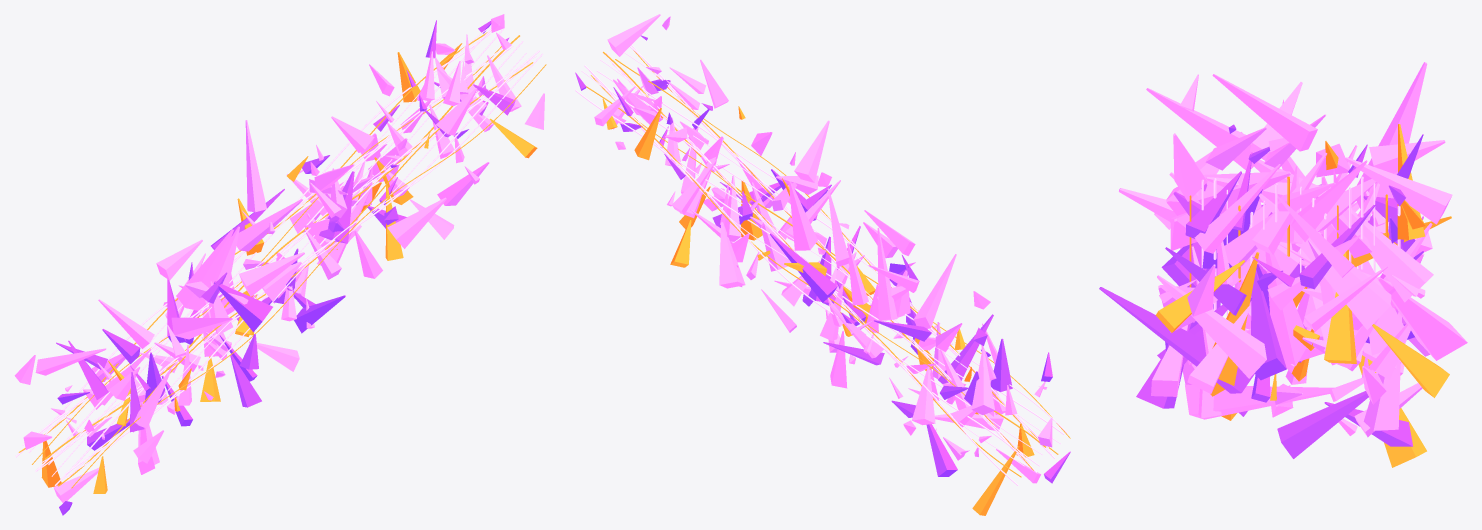
The model's file is shard-stream.glb.
3 views of the same model, side by side, from view 1: azimuth 30°, elevation 25°; view 2: azimuth 150°, elevation 25°; view 3: azimuth 270°, elevation 25° (orthographic). The views are drawn at different scales.
Parts seen in each view (by area): view 1: StreamShard071, StreamShard100, StreamShard075, StreamShard133, StreamShard082, EnergyLine01, EnergyLine02, StreamShard085, StreamShard052, EnergyLine00, StreamShard105, EnergyLine08 (+19 smaller); view 2: StreamShard093, StreamShard100, EnergyLine17, StreamShard109, StreamShard071, StreamShard052, StreamShard115, StreamShard017, StreamShard116, StreamShard032, StreamShard024, EnergyLine16 (+17 smaller); view 3: StreamShard146, StreamShard109, StreamShard145, StreamShard137, StreamShard096, StreamShard039, StreamShard163, StreamShard176, StreamShard023, StreamShard123, StreamShard115, StreamShard100 (+46 smaller).
Boxes of the visible parts, x1,y1,x2,y2 form: StreamShard071: (176, 229, 233, 311); StreamShard100: (245, 120, 266, 212); StreamShard075: (214, 281, 272, 331); StreamShard133: (387, 197, 446, 248); StreamShard082: (239, 252, 304, 296); EnergyLine01: (68, 53, 542, 477); EnergyLine02: (64, 50, 539, 474); StreamShard085: (236, 199, 302, 251); StreamShard052: (171, 317, 232, 339); EnergyLine00: (71, 64, 546, 488); StreamShard105: (319, 171, 354, 243); EnergyLine08: (45, 35, 519, 459); StreamShard093: (770, 233, 837, 302); StreamShard100: (789, 181, 817, 250); EnergyLine17: (575, 90, 1018, 485); StreamShard109: (719, 222, 745, 288); StreamShard071: (877, 228, 897, 320); StreamShard052: (913, 254, 956, 328); StreamShard115: (751, 182, 791, 271); StreamShard017: (971, 348, 994, 415); StreamShard116: (794, 120, 829, 182); StreamShard032: (911, 367, 935, 425); StreamShard024: (926, 424, 957, 476); EnergyLine16: (586, 86, 1021, 477); StreamShard146: (1157, 275, 1266, 378); StreamShard109: (1377, 277, 1467, 360); StreamShard145: (1342, 208, 1433, 302); StreamShard137: (1258, 193, 1391, 329); StreamShard096: (1099, 287, 1254, 393); StreamShard039: (1277, 391, 1368, 458); StreamShard163: (1345, 157, 1452, 224); StreamShard176: (1212, 74, 1317, 151); StreamShard023: (1185, 384, 1334, 419); StreamShard123: (1251, 270, 1286, 380); StreamShard115: (1265, 252, 1306, 366); StreamShard100: (1356, 62, 1427, 209).
Size of the model in its own units: 10.38 by 8.12 by 3.61.
